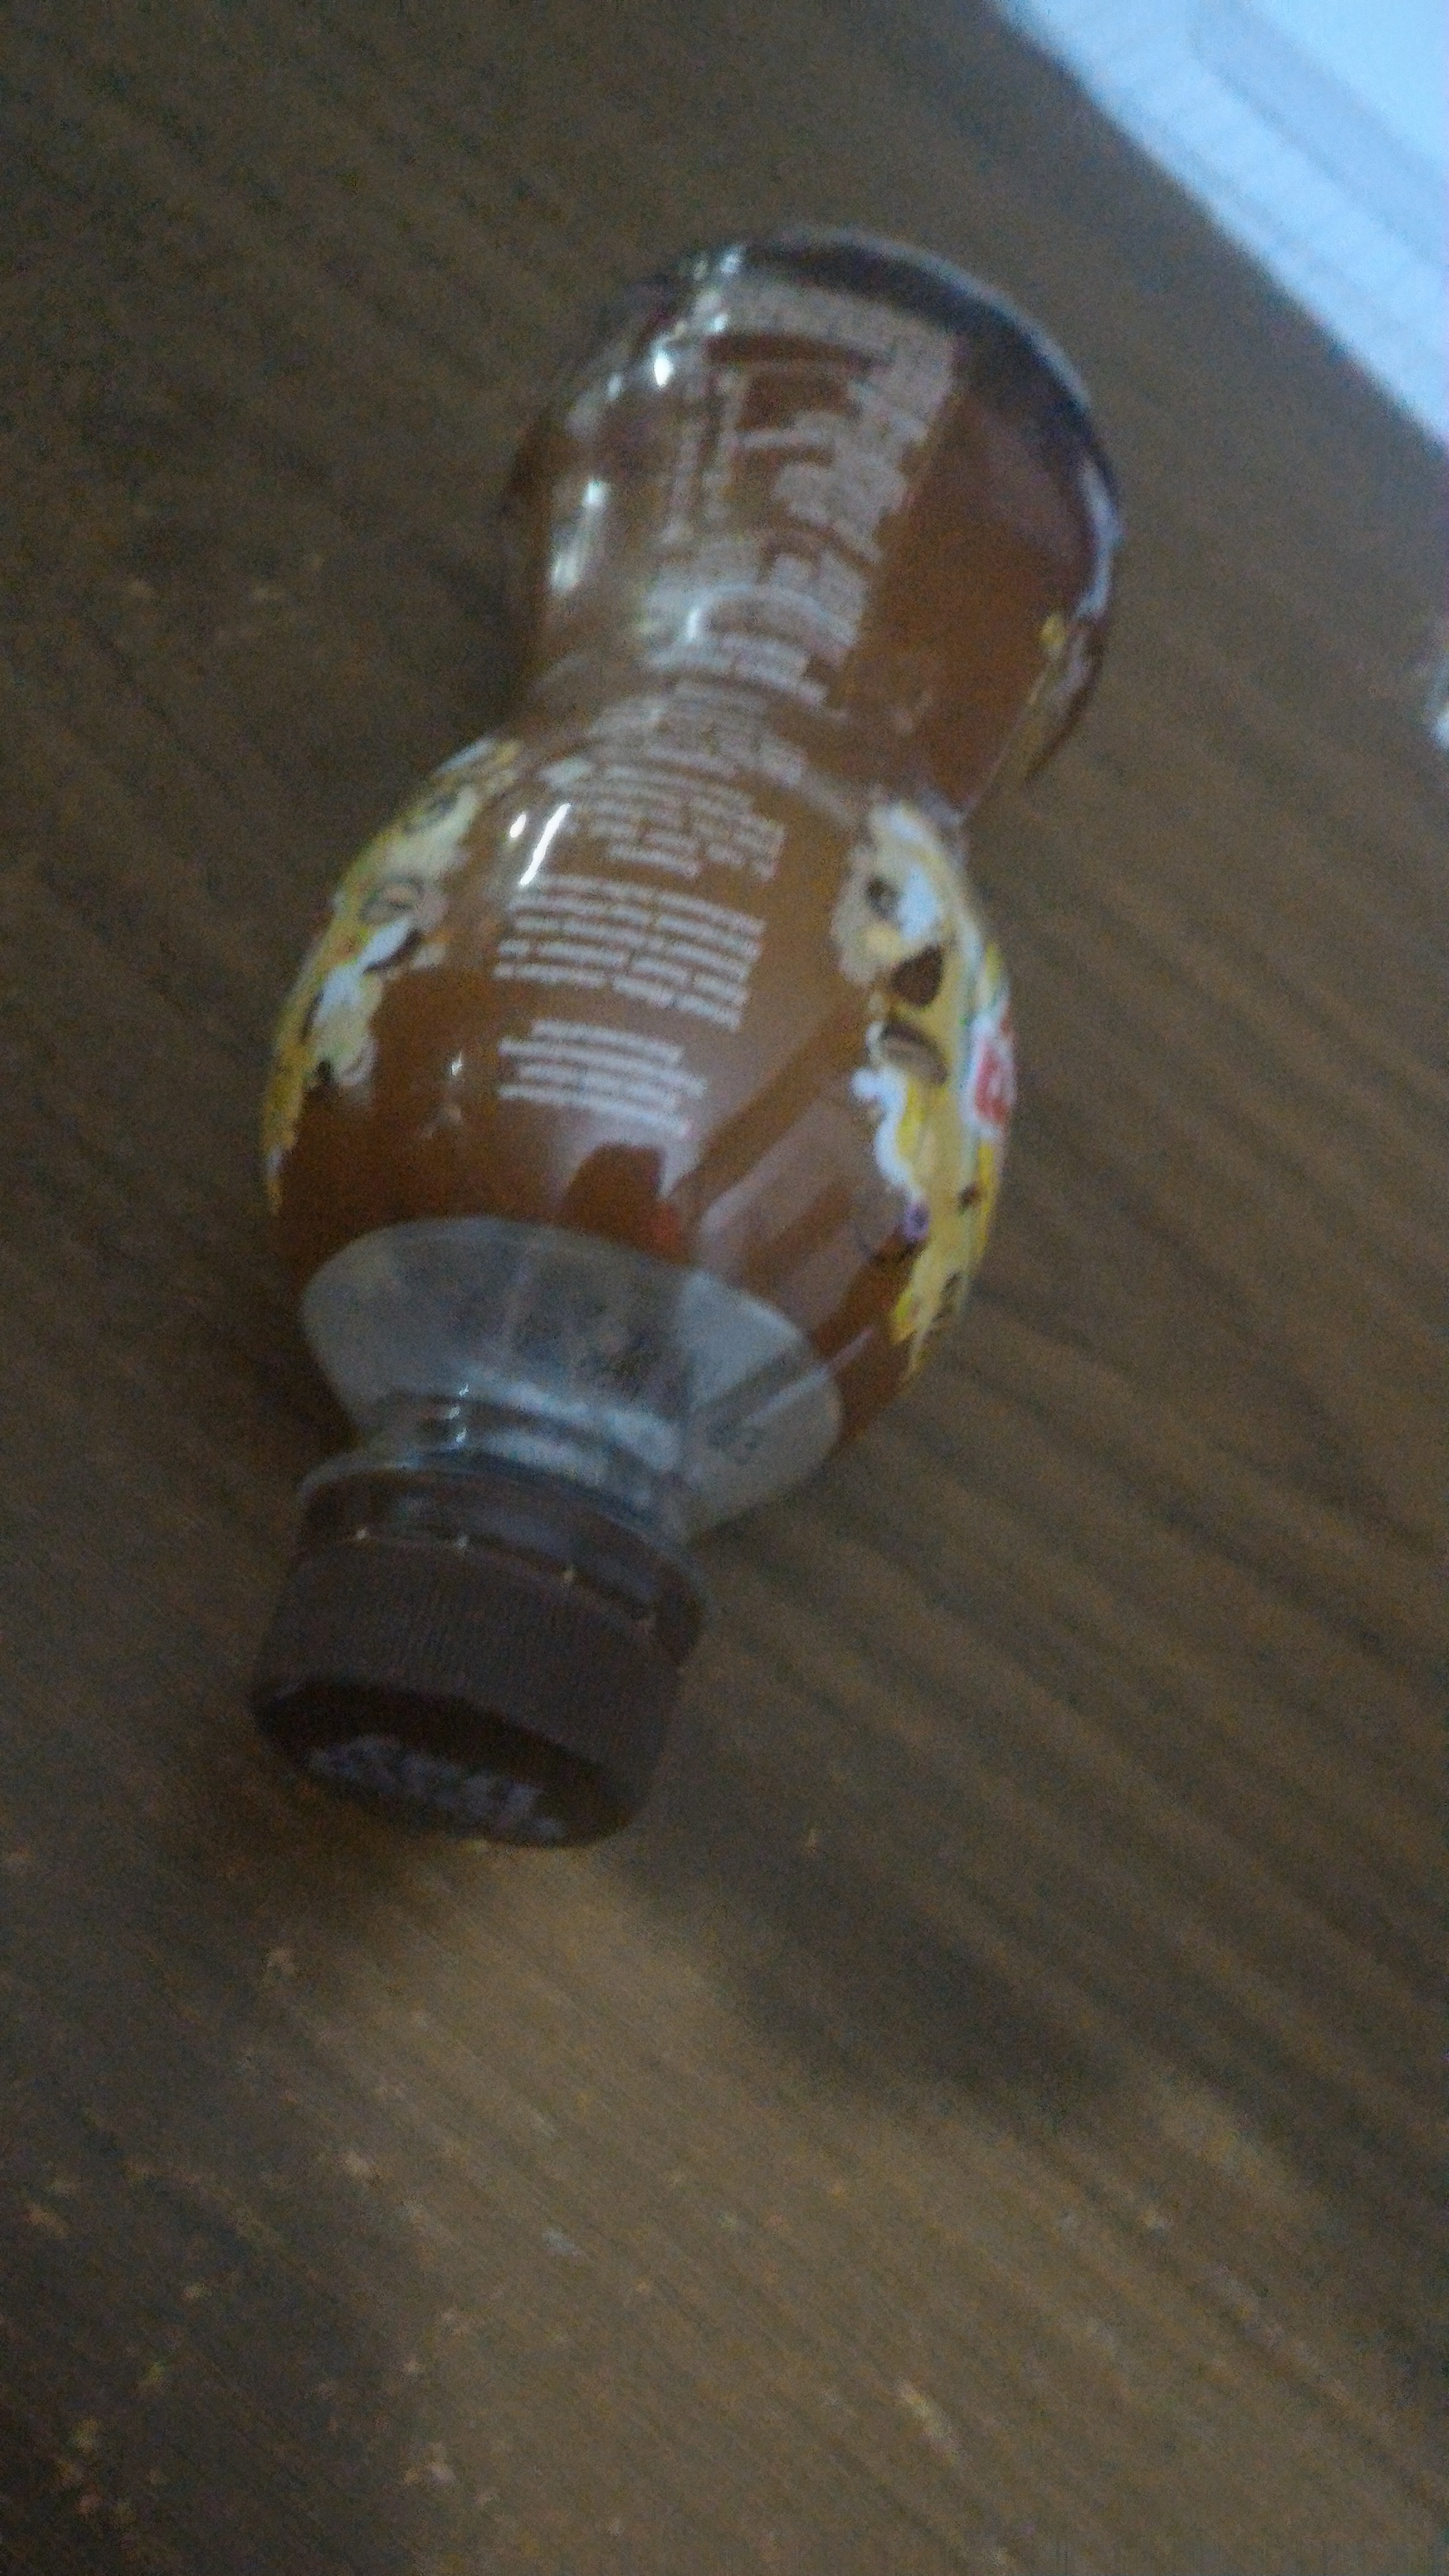botol: (214, 218, 1129, 1836), (249, 218, 1129, 1836), (214, 218, 1129, 1771)
